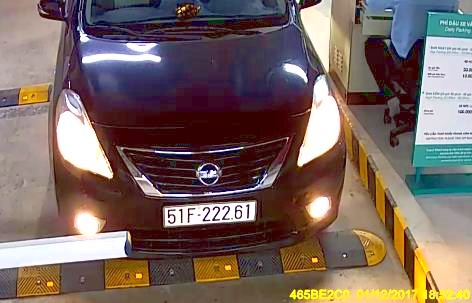plate: (159, 198, 262, 231)
